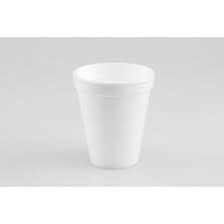paper_cup: (67, 57, 158, 171)
